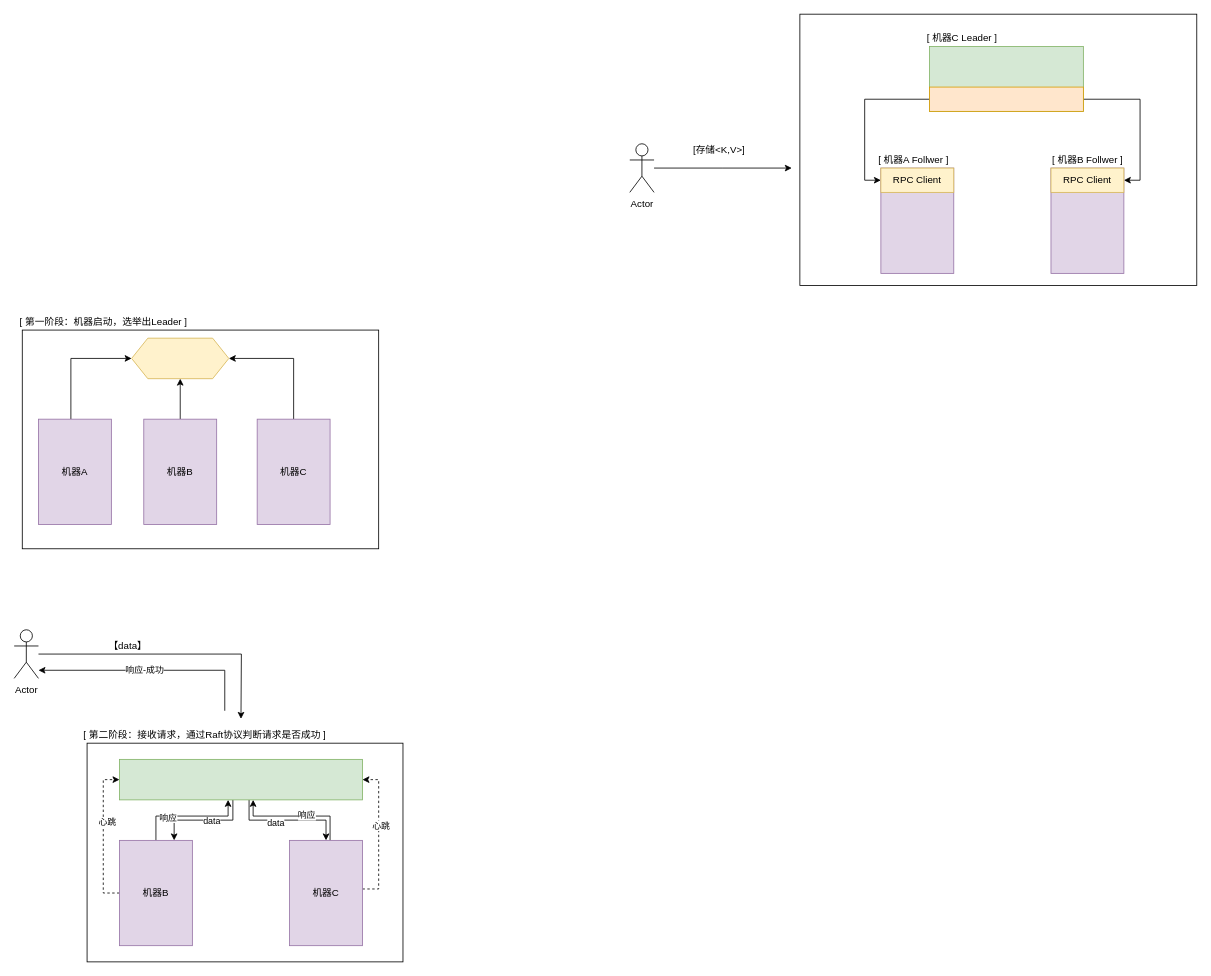
This 1211x976 diagram has some shape labels left out. Here are the shapes that lost their labels. From the top down, the centre of each, then its label:
At point (1006, 98): "RPC Server".
At point (180, 358): "选举".
At point (240, 779): "机器A【leader】".
